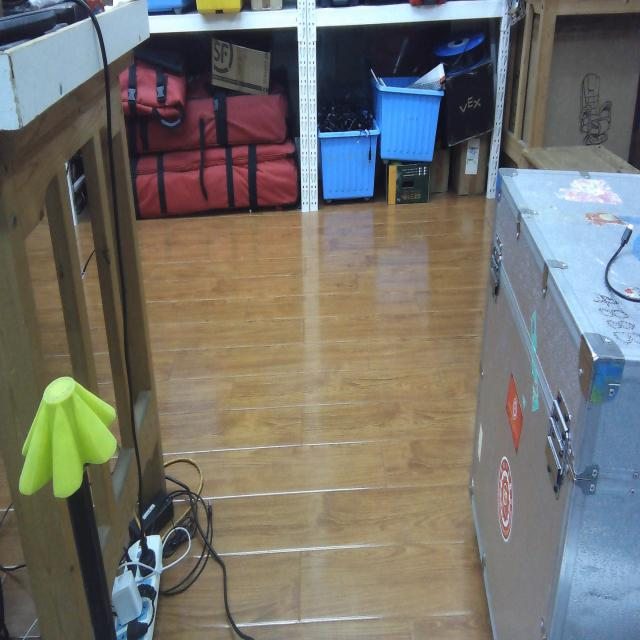Yellow-Stake-Head: (19, 376, 117, 498)
